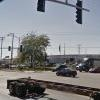Traffic light: (35, 1, 89, 27)
